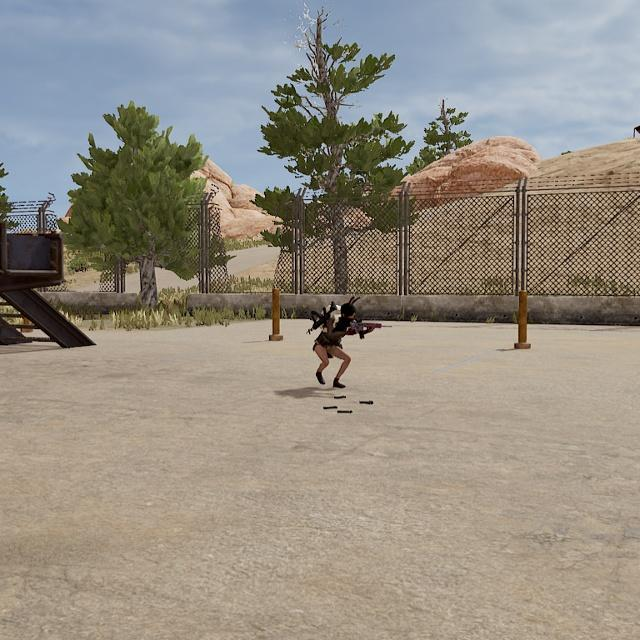head: (339, 302, 357, 325)
people: (311, 302, 358, 389)
